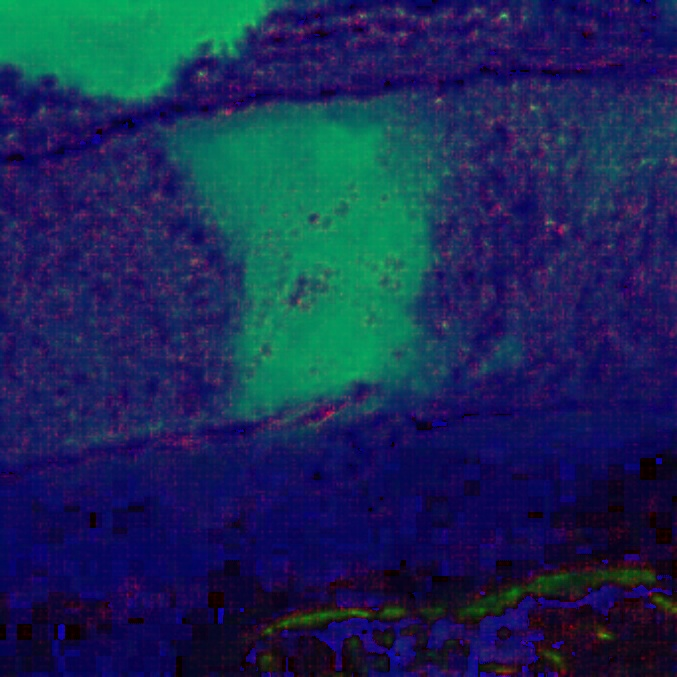rip_current: (129, 67, 476, 392)
